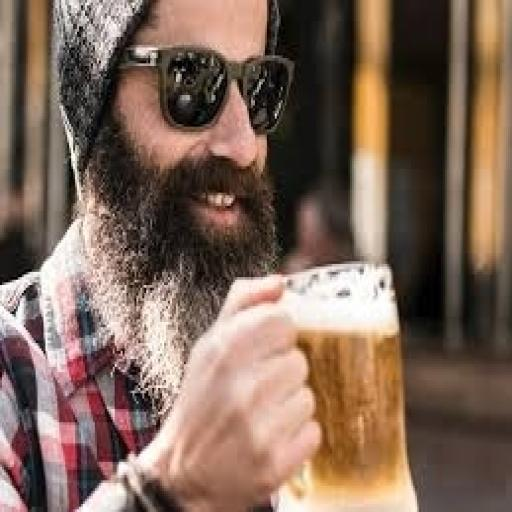drinking: (267, 259, 421, 509)
